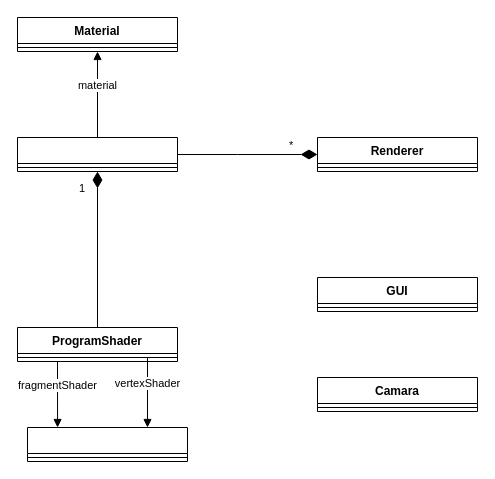
Some shapes in this 495 by 479 pixel diagram are drawn without their labels. The shapes that lost their labels are listed below. From the top down, each one's centre as x and y in pixels, then its label:
At point 97,154: "Modelo".
At point 107,444: "Shader".
